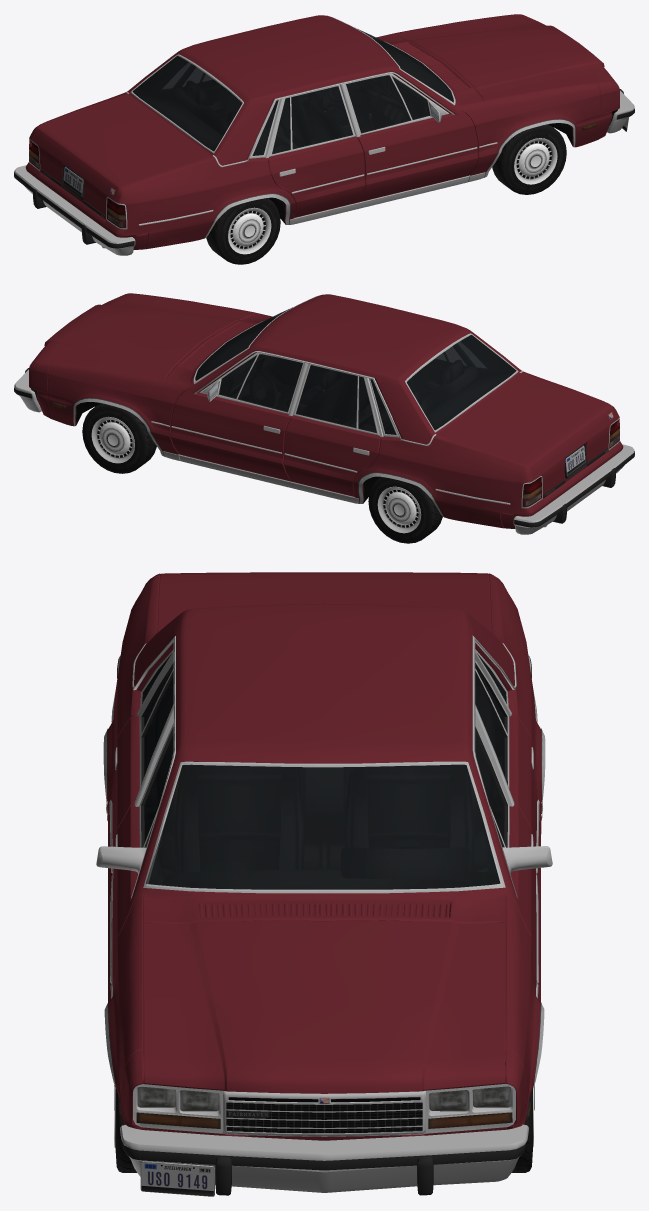
The model's file is sedan-fairheaven.glb.
3 renders of one model, top to bottom at view 1: azimuth 30°, elevation 25°; view 2: azimuth 150°, elevation 25°; view 3: azimuth 270°, elevation 25°, orthographic. The views are drawn at different scales.
Visible parts, largest first — view 1: Fairheaven_LT80_body_Fairheaven_LT80_Bodymat_0, Fairheaven_LT80_trunk_door_Fairheaven_LT80_Bodymat_0, Fairheaven_LT80_Hood_Fairheaven_LT80_Bodymat_0, Fairheaven_LT80_Grand_Trim_UCB_BOTTOM_GT_0, Fairheaven_LT80_Interior_Trim_UCB_Interior_Trim_0, Fairheaven_LT80_Interior_UCB_Interior_Trim_0, Fairheaven_LT80_Glass_Rear_UCB_Lights_and_Glass_Transperent_, Fairheaven_LT80_Glass_Body_UCB_Lights_and_Glass_Transperent_, Fairheaven_LT80_WheelHubcaps_FR_RB1c_Tire_1k_0, Fairheaven_LT80_WheelHubcaps_RL_RB1c_Tire_1k_0, Fairheaven_LT80_Glass_Passanger001_UCB_Lights_and_Glass_Tran, Fairheaven_LT80_bumper_rear_UCB_BOTTOM_GT_0 (+8 smaller); view 2: Fairheaven_LT80_body_Fairheaven_LT80_Bodymat_0, Fairheaven_LT80_trunk_door_Fairheaven_LT80_Bodymat_0, Fairheaven_LT80_Hood_Fairheaven_LT80_Bodymat_0, Fairheaven_LT80_Grand_Trim_UCB_BOTTOM_GT_0, Fairheaven_LT80_Interior_Trim_UCB_Interior_Trim_0, Fairheaven_LT80_Interior_UCB_Interior_Trim_0, Fairheaven_LT80_Glass_Rear_UCB_Lights_and_Glass_Transperent_, Fairheaven_LT80_Glass_Body_UCB_Lights_and_Glass_Transperent_, Fairheaven_LT80_WheelHubcaps_FL_RB1c_Tire_1k_0, Fairheaven_LT80_WheelHubcaps_RR_RB1c_Tire_1k_0, Fairheaven_LT80_Glass_Driver001_UCB_Lights_and_Glass_Transpe, Fairheaven_LT80_bumper_rear_UCB_BOTTOM_GT_0 (+9 smaller); view 3: Fairheaven_LT80_body_Fairheaven_LT80_Bodymat_0, Fairheaven_LT80_Hood_Fairheaven_LT80_Bodymat_0, Fairheaven_LT80_Interior_Trim_UCB_Interior_Trim_0, Fairheaven_LT80_Windshield_UCB_Lights_and_Glass_Transperent_, Fairheaven_LT80_Bumper_Front_UCB_BOTTOM_GT_0, Fairheaven_LT80_Grand_Trim_UCB_BOTTOM_GT_0, Fairheaven_LT80_Front_Plate_Inner_UCB_BOTTOM_GT_0, Fairheaven_LT80_trunk_door_Fairheaven_LT80_Bodymat_0, Fairheaven_LT80_Headlights_Glass_UCB_Lights_and_Glass_Transp, Fairheaven_LT80_Front_Plate_Fairheaven_LT80_Bodymat_0, Fairheaven_LT80_Headlights_UCB_Lights_and_Glass_0, Fairheaven_LT80_Glass_Body_UCB_Lights_and_Glass_Transperent_ (+4 smaller).
Part boxes in pixels (x1,y1,x2,y2): Fairheaven_LT80_body_Fairheaven_LT80_Bodymat_0: [25, 15, 601, 249]; Fairheaven_LT80_trunk_door_Fairheaven_LT80_Bodymat_0: [32, 94, 211, 219]; Fairheaven_LT80_Hood_Fairheaven_LT80_Bodymat_0: [394, 14, 615, 100]; Fairheaven_LT80_Grand_Trim_UCB_BOTTOM_GT_0: [29, 16, 575, 238]; Fairheaven_LT80_Interior_Trim_UCB_Interior_Trim_0: [170, 43, 453, 155]; Fairheaven_LT80_Interior_UCB_Interior_Trim_0: [133, 39, 451, 150]; Fairheaven_LT80_Glass_Rear_UCB_Lights_and_Glass_Transperent_: [132, 56, 242, 151]; Fairheaven_LT80_Glass_Body_UCB_Lights_and_Glass_Transperent_: [163, 63, 352, 155]; Fairheaven_LT80_WheelHubcaps_FR_RB1c_Tire_1k_0: [492, 124, 566, 194]; Fairheaven_LT80_WheelHubcaps_RL_RB1c_Tire_1k_0: [206, 198, 280, 264]; Fairheaven_LT80_Glass_Passanger001_UCB_Lights_and_Glass_Tran: [346, 75, 429, 132]; Fairheaven_LT80_bumper_rear_UCB_BOTTOM_GT_0: [14, 165, 135, 255]; Fairheaven_LT80_body_Fairheaven_LT80_Bodymat_0: [47, 294, 623, 528]; Fairheaven_LT80_trunk_door_Fairheaven_LT80_Bodymat_0: [437, 373, 616, 498]; Fairheaven_LT80_Hood_Fairheaven_LT80_Bodymat_0: [33, 294, 255, 379]; Fairheaven_LT80_Grand_Trim_UCB_BOTTOM_GT_0: [73, 295, 619, 517]; Fairheaven_LT80_Interior_Trim_UCB_Interior_Trim_0: [195, 326, 478, 434]; Fairheaven_LT80_Interior_UCB_Interior_Trim_0: [197, 318, 541, 496]; Fairheaven_LT80_Glass_Rear_UCB_Lights_and_Glass_Transperent_: [407, 335, 516, 430]; Fairheaven_LT80_Glass_Body_UCB_Lights_and_Glass_Transperent_: [296, 342, 485, 434]; Fairheaven_LT80_WheelHubcaps_FL_RB1c_Tire_1k_0: [82, 403, 156, 473]; Fairheaven_LT80_WheelHubcaps_RR_RB1c_Tire_1k_0: [368, 477, 442, 543]; Fairheaven_LT80_Glass_Driver001_UCB_Lights_and_Glass_Transpe: [219, 354, 302, 411]; Fairheaven_LT80_bumper_rear_UCB_BOTTOM_GT_0: [513, 444, 634, 534]; Fairheaven_LT80_body_Fairheaven_LT80_Bodymat_0: [107, 573, 541, 1116]; Fairheaven_LT80_Hood_Fairheaven_LT80_Bodymat_0: [143, 920, 505, 1093]; Fairheaven_LT80_Interior_Trim_UCB_Interior_Trim_0: [144, 687, 504, 920]; Fairheaven_LT80_Windshield_UCB_Lights_and_Glass_Transperent_: [146, 764, 500, 889]; Fairheaven_LT80_Bumper_Front_UCB_BOTTOM_GT_0: [120, 1124, 528, 1195]; Fairheaven_LT80_Grand_Trim_UCB_BOTTOM_GT_0: [96, 635, 552, 1088]; Fairheaven_LT80_Front_Plate_Inner_UCB_BOTTOM_GT_0: [133, 1062, 515, 1136]; Fairheaven_LT80_trunk_door_Fairheaven_LT80_Bodymat_0: [157, 572, 491, 632]; Fairheaven_LT80_Headlights_Glass_UCB_Lights_and_Glass_Transp: [136, 1086, 512, 1128]; Fairheaven_LT80_Front_Plate_Fairheaven_LT80_Bodymat_0: [122, 1050, 526, 1140]; Fairheaven_LT80_Headlights_UCB_Lights_and_Glass_0: [138, 1087, 510, 1110]; Fairheaven_LT80_Glass_Body_UCB_Lights_and_Glass_Transperent_: [142, 653, 506, 776].
Size of the model in its own units: 5 by 1.35 by 1.83.
7 materials, 6 textured.
